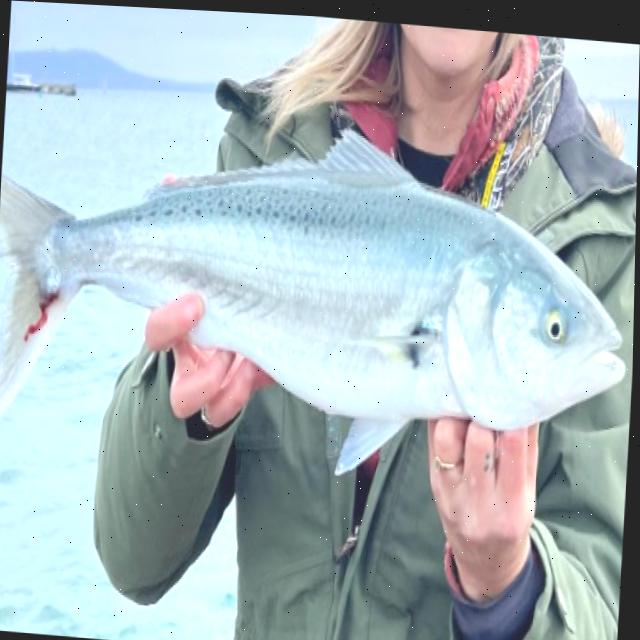Australian Salmon: (0, 83, 639, 501)
